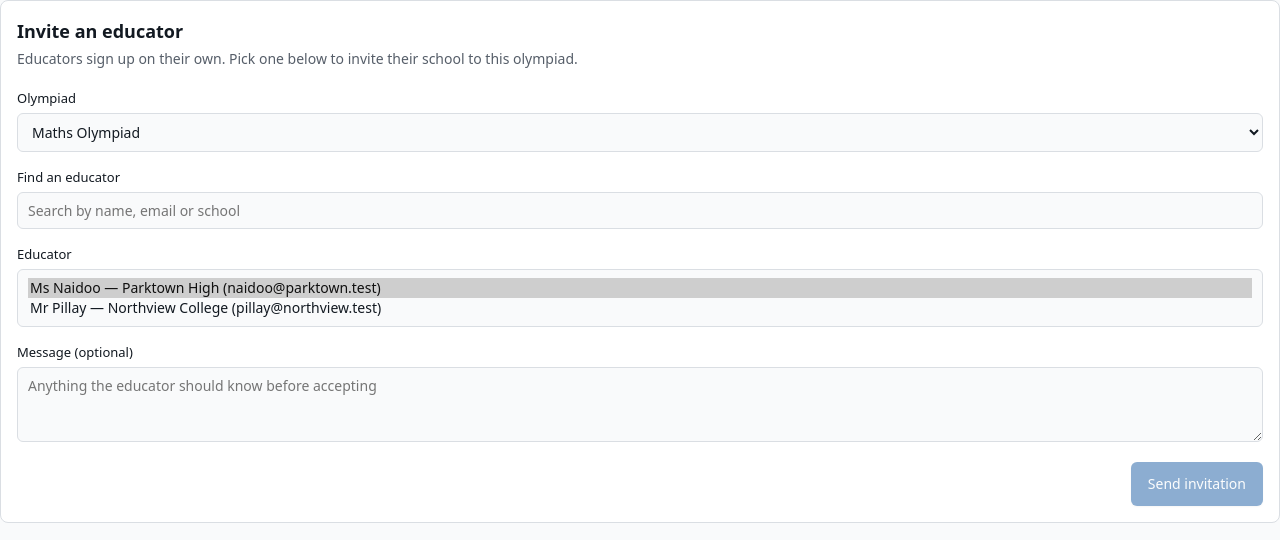
Test: InviteEducatorForm › confirms that the invitation is waiting on the educator's dashboard
Select "Ms Naidoo — Parktown High (naidoo@parktown.test)" in the dropdown labelled "Educator". click: (640, 298)
box: left=17, top=269, right=1263, bottom=327
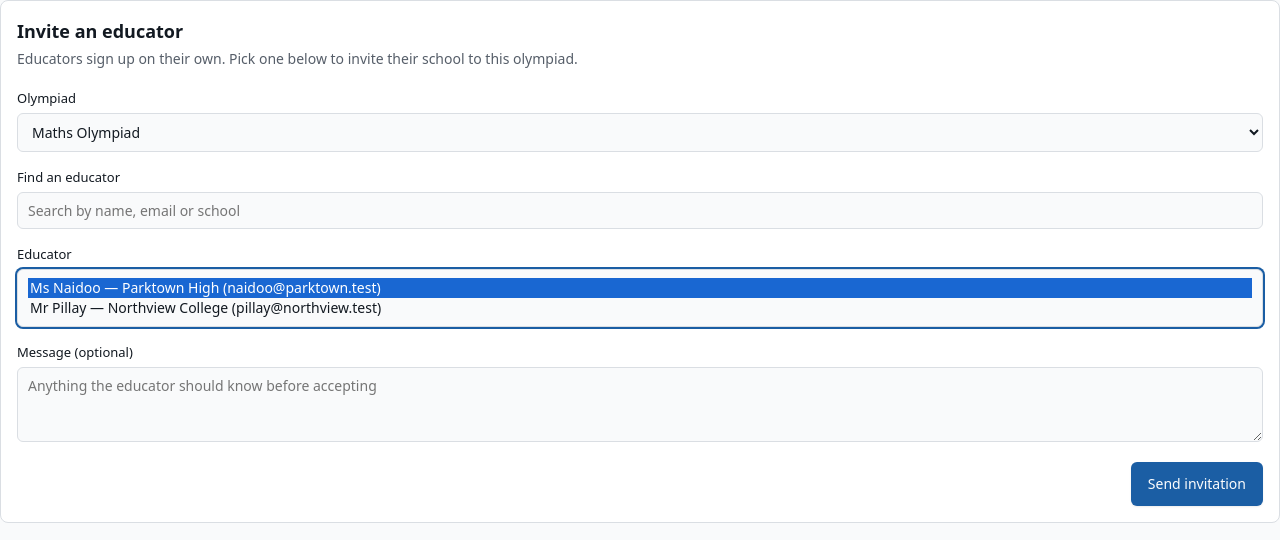
Click the button "Send invitation". click: (1197, 484)
box: left=1131, top=462, right=1263, bottom=506
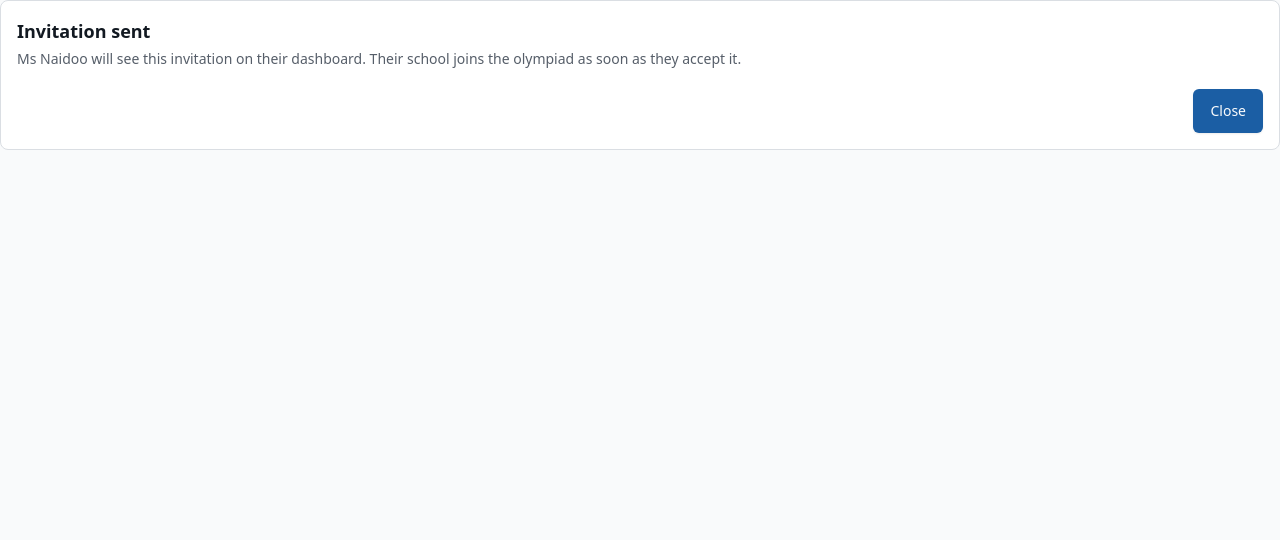
Check: the heading "Invitation sent" is shown, box left=17, top=19, right=150, bottom=43
Check: the text "Ms Naidoo will see this invitation on their dashboard" is shown, box left=17, top=49, right=741, bottom=68
